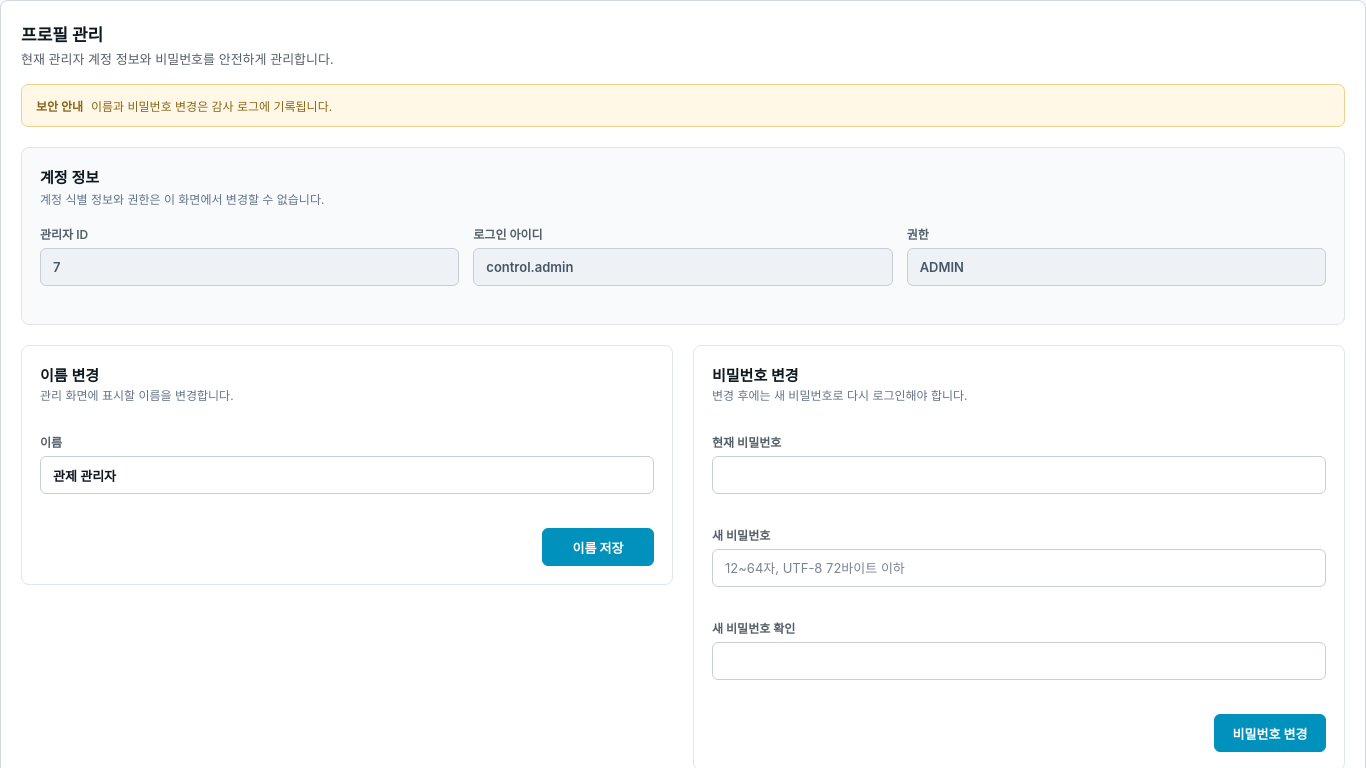
Test: ProfileView › 현재 비밀번호 불일치 API 오류를 현재 비밀번호 필드에 표시한다
In the password field named "currentPassword": [1019, 475] box [712, 456, 1326, 494], type "wrong-current-password"
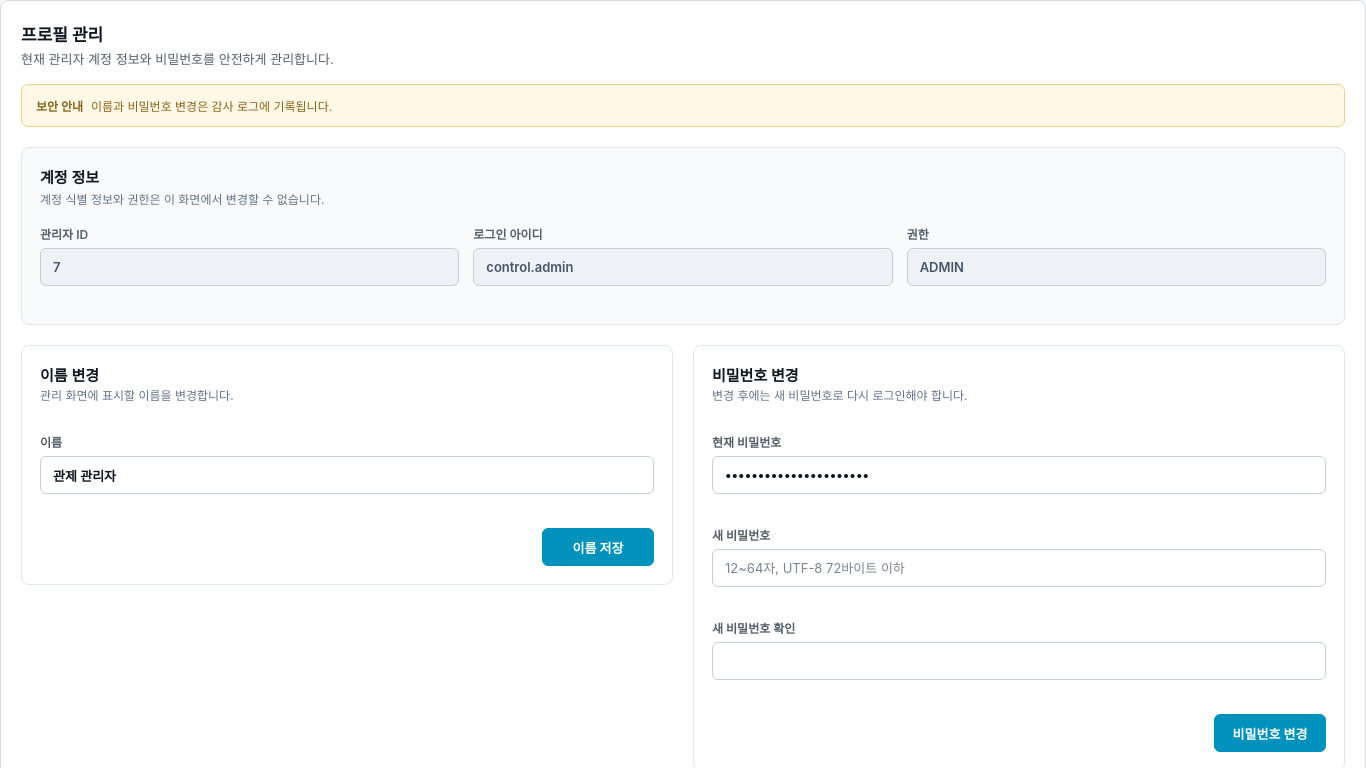
In the password field named "newPassword": [1019, 568] box [712, 549, 1326, 587], type "new-password-123"
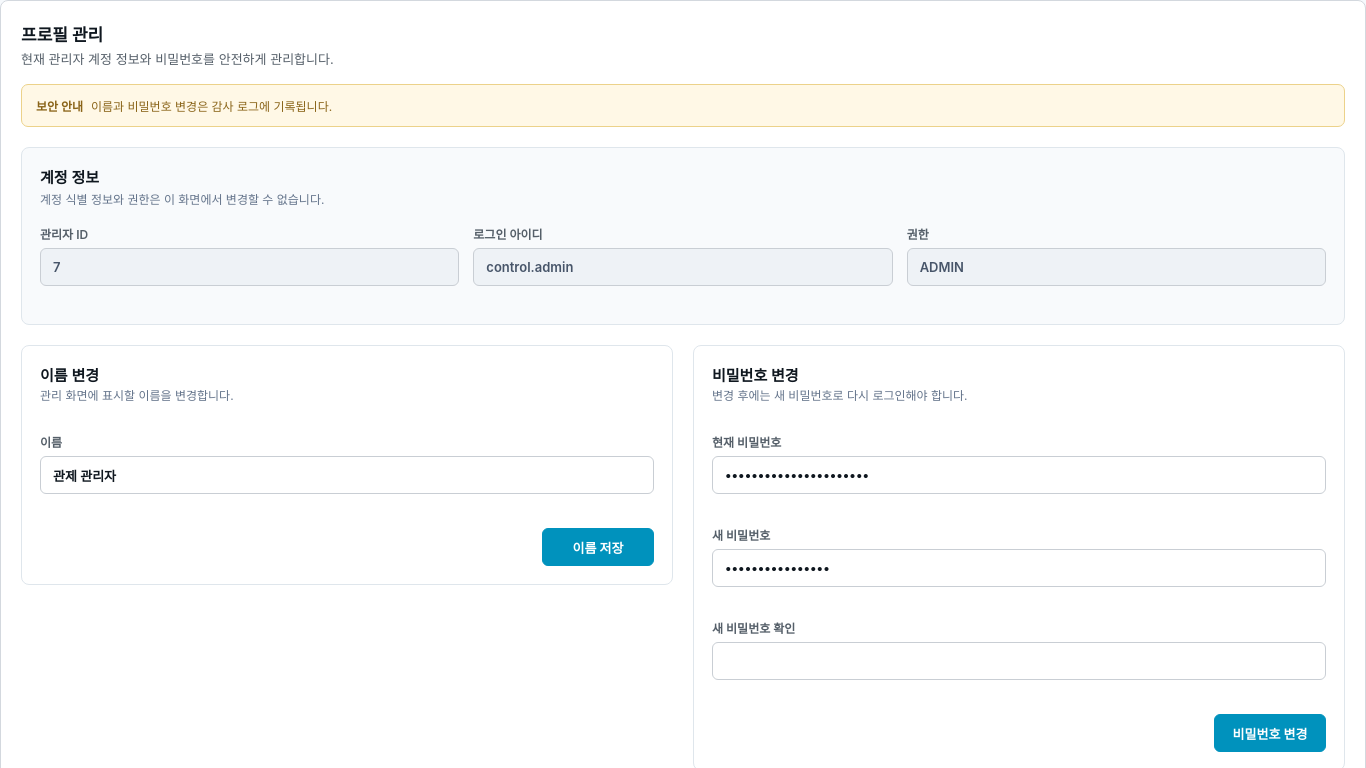
In the password field named "passwordConfirm": [1019, 661] box [712, 642, 1326, 680], type "new-password-123"
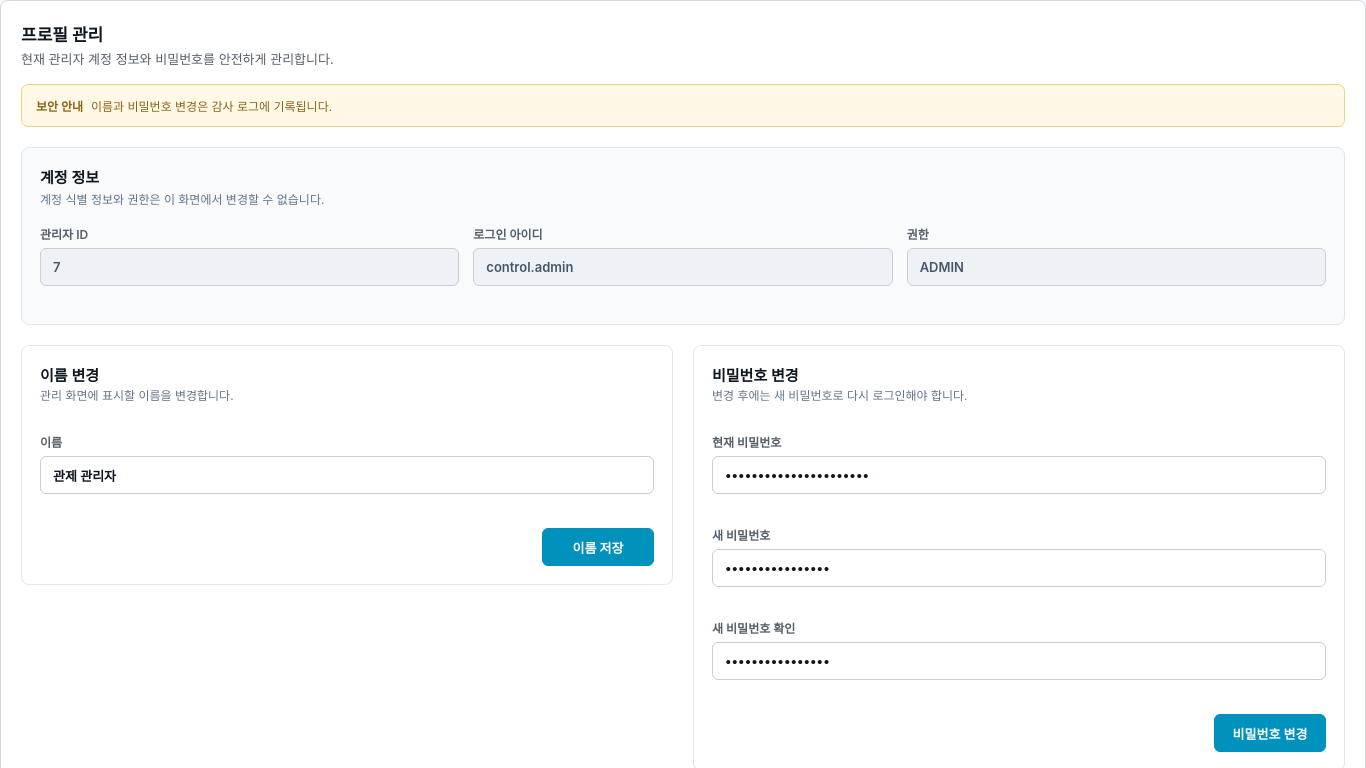
Submit the form "현재 비밀번호 새 비밀번호 새 비밀번호 확인 비밀번호 변경", box [712, 433, 1326, 752]
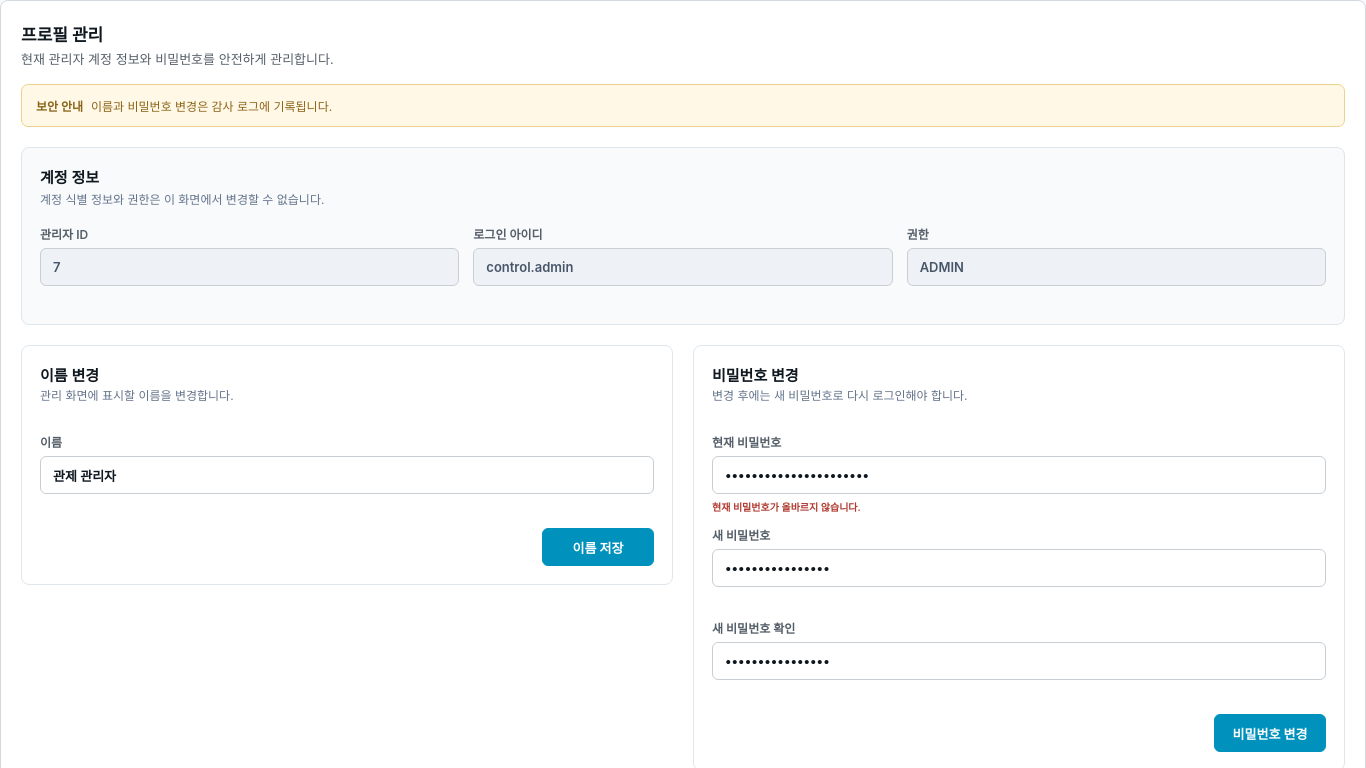
Check: the text "현재 비밀번호가 올바르지 않습니다." is shown, box [712, 501, 861, 513]
In the password field named "currentPassword": [1019, 475] box [712, 456, 1326, 494], type "correct-current-password"
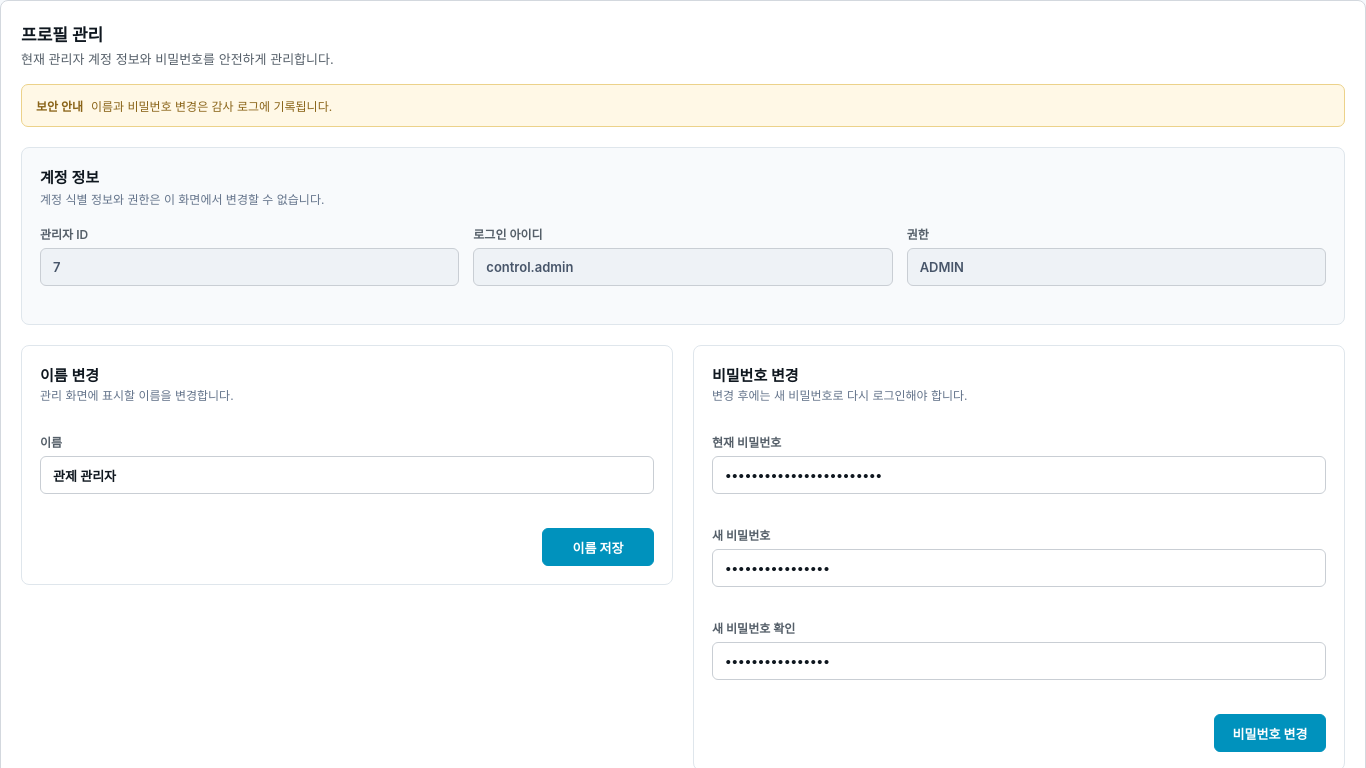
Check: the text "현재 비밀번호가 올바르지 않습니다." is gone
